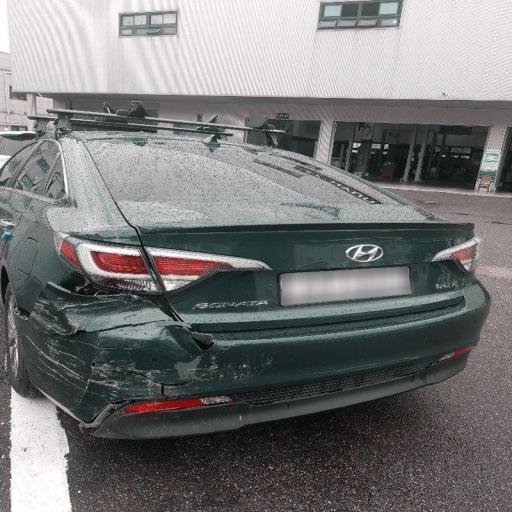scratch: (0, 232, 266, 454)
